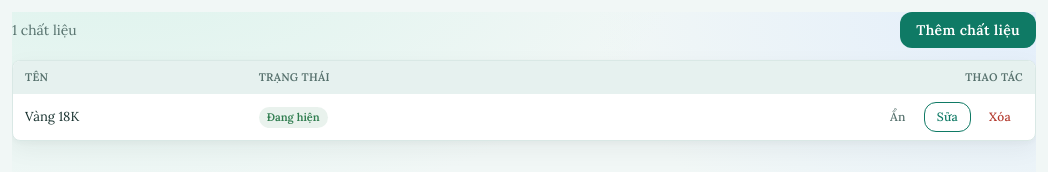
Test: CrudPage › xóa thành công gọi service, tải lại và báo toast
Click the button with aria-label "Xóa Vàng 18K" at (1000, 117), box [977,102,1023,132]
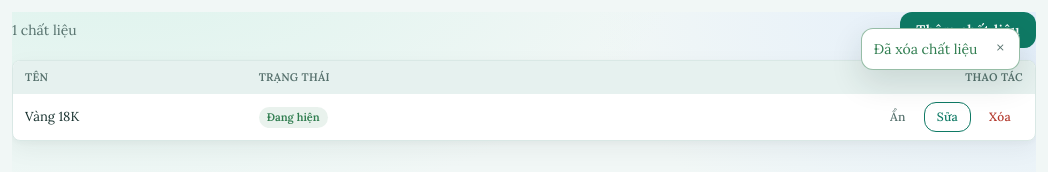
Check: the text "Đã xóa chất liệu" is shown, box [874,39,977,59]
